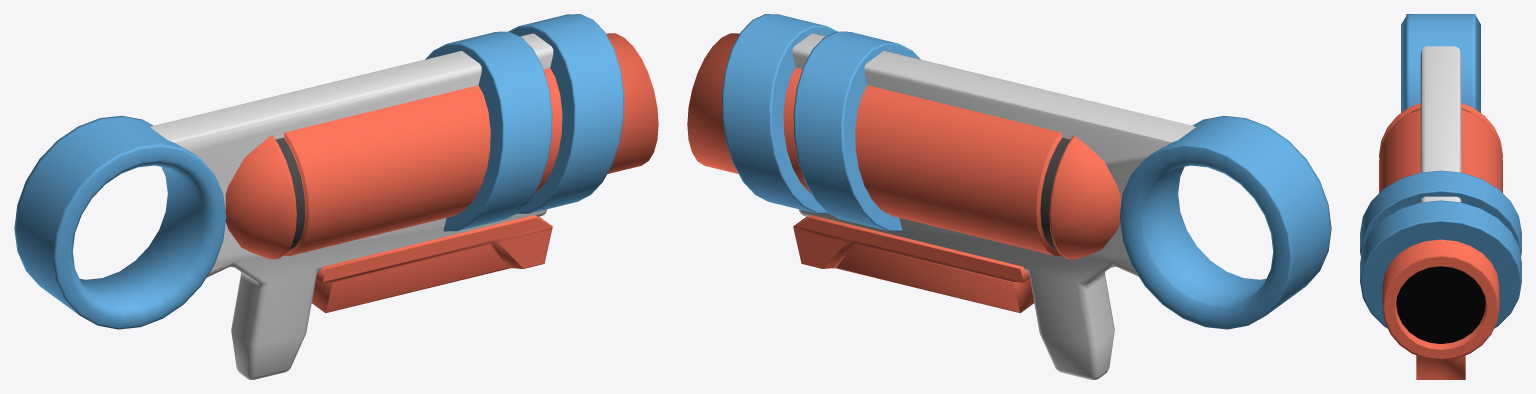
The model's file is Vera_3D-Model_Gun.fbx.
3 views of the same model, side by side, from view 1: azimuth 30°, elevation 25°; view 2: azimuth 150°, elevation 25°; view 3: azimuth 270°, elevation 25° (orthographic). The views are drawn at different scales.
Visible parts, largest first — view 1: Cube; view 2: Cube; view 3: Cube.
Part boxes in pixels (x1,y1,x2,y2): Cube: (14, 14, 658, 379); Cube: (687, 14, 1331, 379); Cube: (1360, 14, 1521, 379).
Size of the model in its own units: 937 by 417 by 261.
